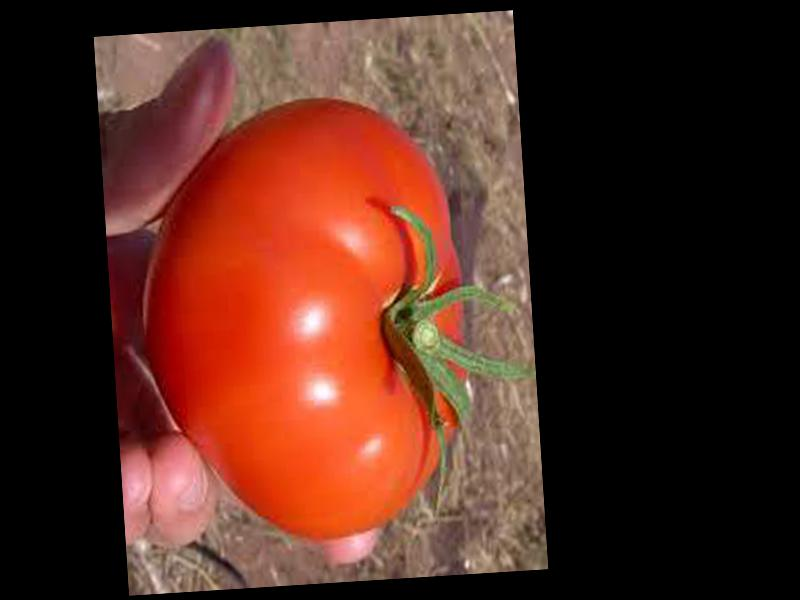Tomato: (133, 90, 477, 549)
